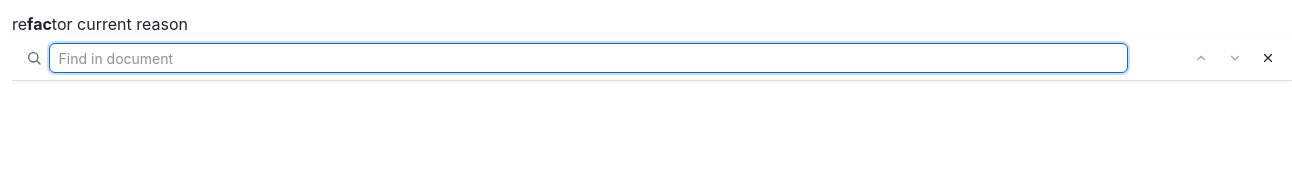
Test case: SearchBar › treats a query split across inline text nodes as one match
In the field with test id "search-input": (588, 58) x1=49 y1=43 x2=1128 y2=73, type "refactor"
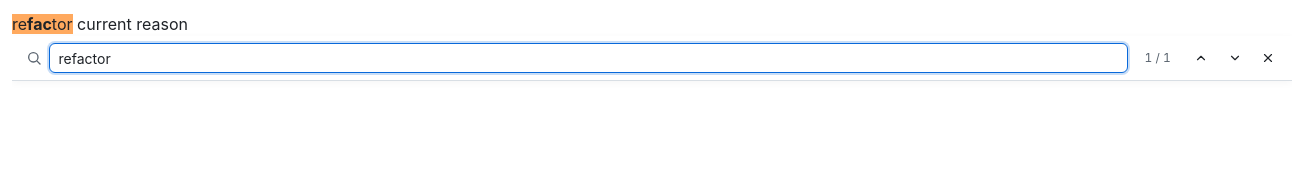
Now the text "1 / 1" is shown, box x1=1144 y1=50 x2=1171 y2=65
Now the number of elements with class "search-highlight-current" is 3, box x1=12 y1=14 x2=27 y2=34; x1=27 y1=14 x2=52 y2=34; x1=52 y1=14 x2=73 y2=34
